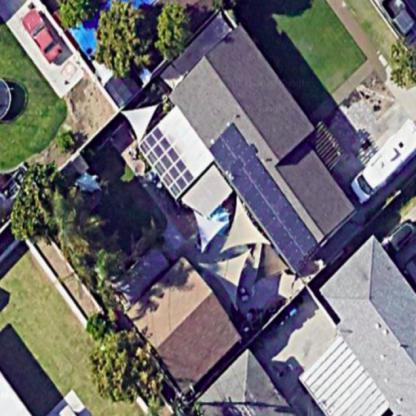car: (338, 107, 416, 212), (17, 6, 70, 72), (367, 1, 416, 44)
solar_panel: (203, 113, 329, 287), (134, 121, 197, 202)
